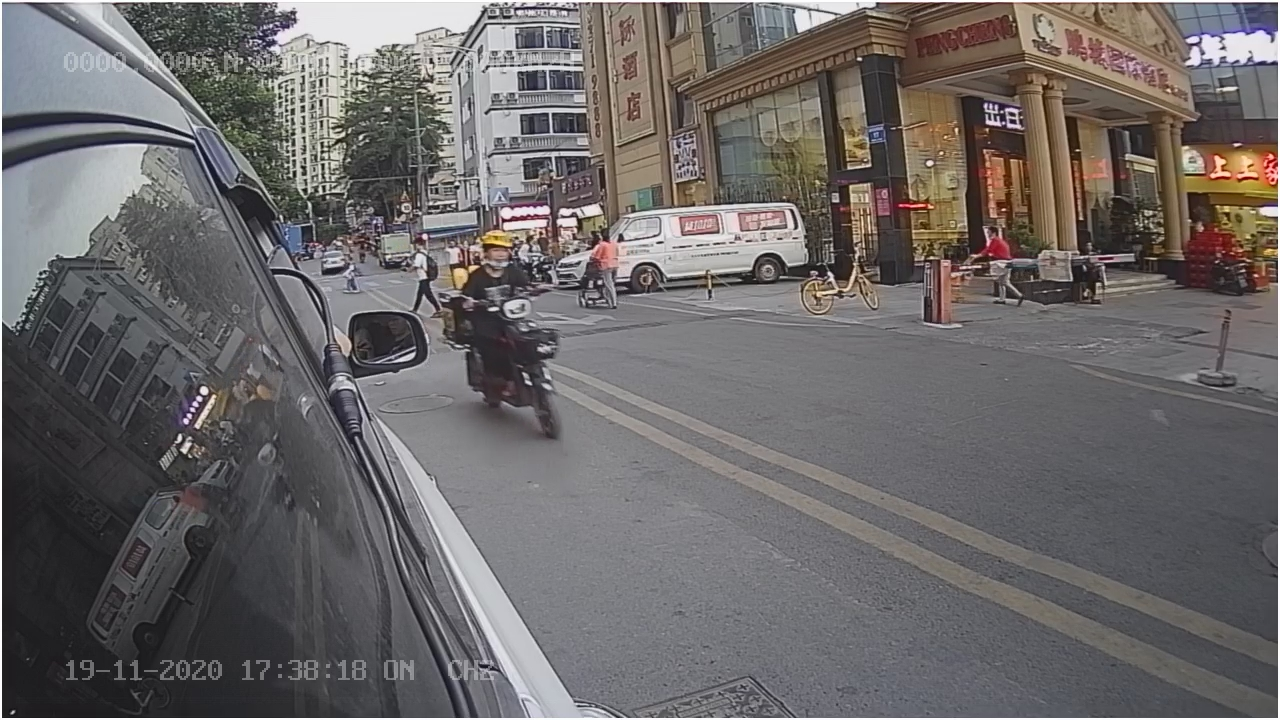person: (455, 225, 540, 299)
